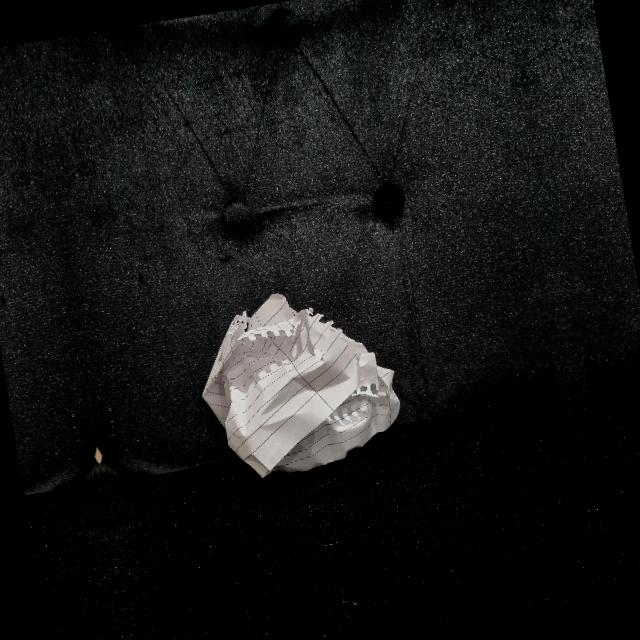paper: (194, 279, 412, 488)
